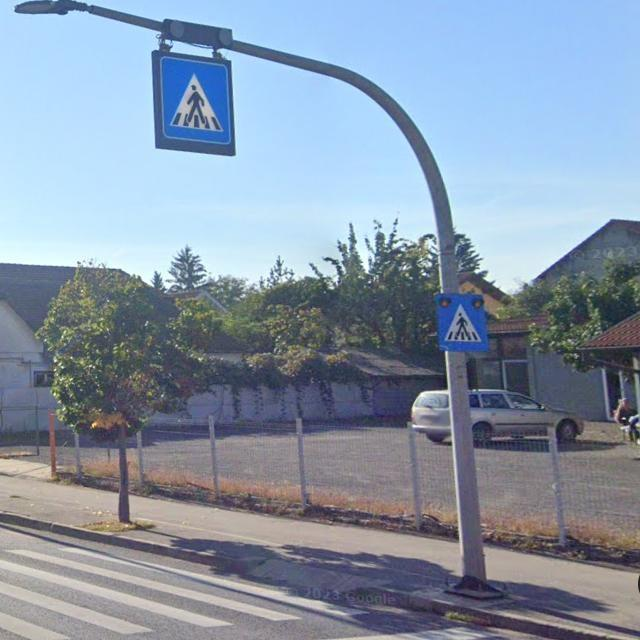info_crosswalk: (149, 51, 236, 155), (432, 292, 489, 352)
